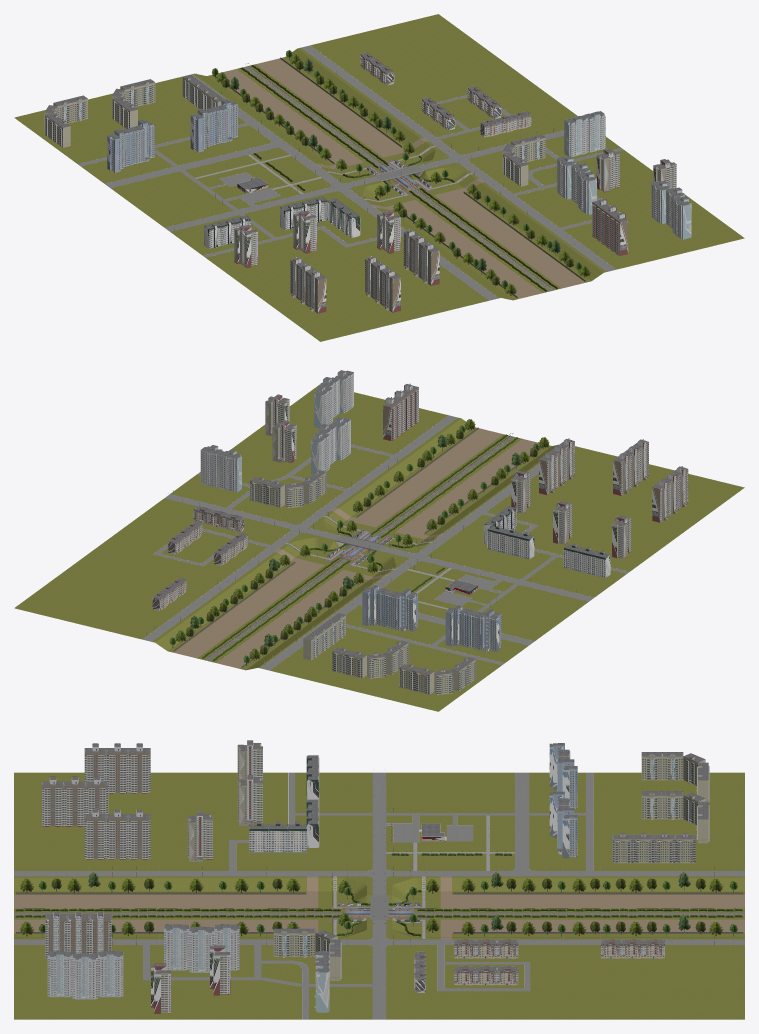
Rendered from tram-station-original.glb.
The picture shows the model from 3 angles, top to bottom: view 1: azimuth 30°, elevation 25°; view 2: azimuth 150°, elevation 25°; view 3: azimuth 270°, elevation 25°; orthographic projection. The views are drawn at different scales.
Parts seen in each view (by area): view 1: PS3_Material_28, PS3_Material_41, PS3_Material_30, PS3_Material_20, PS3_Material_00, PS3_Material_06, PS3_Material_12, PS3_Material_15, PS3_Material_03, PS3_Material_09, PS3_Material_49, PS3_Material_53 (+11 smaller); view 2: PS3_Material_28, PS3_Material_30, PS3_Material_41, PS3_Material_00, PS3_Material_20, PS3_Material_06, PS3_Material_15, PS3_Material_12, PS3_Material_01, PS3_Material_09, PS3_Material_03, PS3_Material_49 (+11 smaller); view 3: PS3_Material_28, PS3_Material_41, PS3_Material_30, PS3_Material_20, PS3_Material_00, PS3_Material_06, PS3_Material_21, PS3_Material_12, PS3_Material_03, PS3_Material_53, PS3_Material_49, PS3_Material_01 (+17 smaller).
Part boxes in pixels (bbox=[...]): PS3_Material_28: bbox=[14, 14, 744, 341]; PS3_Material_41: bbox=[78, 45, 623, 300]; PS3_Material_30: bbox=[216, 58, 585, 298]; PS3_Material_20: bbox=[290, 198, 628, 313]; PS3_Material_00: bbox=[44, 74, 545, 186]; PS3_Material_06: bbox=[557, 111, 691, 239]; PS3_Material_12: bbox=[234, 148, 676, 268]; PS3_Material_15: bbox=[107, 99, 237, 172]; PS3_Material_03: bbox=[360, 52, 531, 137]; PS3_Material_09: bbox=[204, 197, 360, 248]; PS3_Material_49: bbox=[216, 54, 590, 295]; PS3_Material_53: bbox=[240, 65, 557, 291]; PS3_Material_28: bbox=[14, 384, 744, 711]; PS3_Material_30: bbox=[174, 428, 540, 668]; PS3_Material_41: bbox=[142, 415, 629, 670]; PS3_Material_00: bbox=[250, 470, 476, 695]; PS3_Material_20: bbox=[383, 383, 688, 522]; PS3_Material_06: bbox=[200, 370, 353, 492]; PS3_Material_15: bbox=[362, 585, 501, 651]; PS3_Material_12: bbox=[265, 394, 631, 558]; PS3_Material_01: bbox=[250, 474, 476, 693]; PS3_Material_09: bbox=[483, 506, 610, 577]; PS3_Material_03: bbox=[152, 506, 247, 610]; PS3_Material_49: bbox=[175, 419, 549, 660]; PS3_Material_28: bbox=[14, 772, 744, 1019]; PS3_Material_41: bbox=[14, 772, 744, 1019]; PS3_Material_30: bbox=[14, 876, 744, 939]; PS3_Material_20: bbox=[42, 743, 150, 959]; PS3_Material_00: bbox=[273, 752, 709, 980]; PS3_Material_06: bbox=[47, 924, 329, 1012]; PS3_Material_21: bbox=[42, 755, 150, 957]; PS3_Material_12: bbox=[151, 740, 262, 1013]; PS3_Material_03: bbox=[414, 939, 664, 992]; PS3_Material_53: bbox=[15, 853, 742, 936]; PS3_Material_49: bbox=[19, 878, 723, 936]; PS3_Material_01: bbox=[274, 755, 697, 955].
Size of the model in its own units: 668 by 66.08 by 835.
54 materials, 54 textured.
